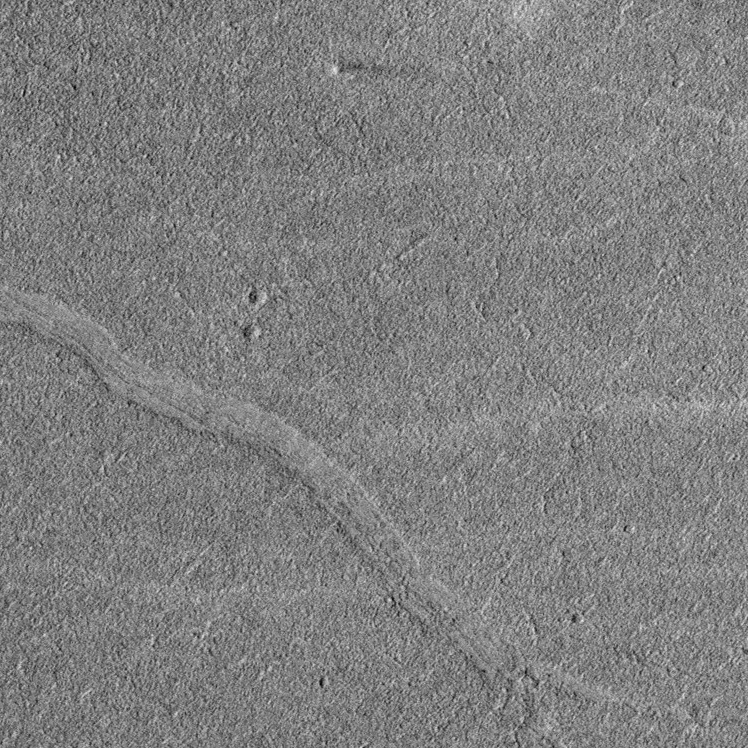dust_devil: (328, 61, 397, 78)
